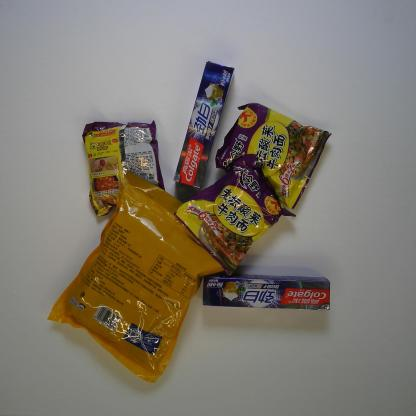Dried Food: (45, 167, 228, 387)
Instant Noodles: (174, 152, 297, 278), (214, 101, 333, 212), (80, 119, 166, 218)
Personal Hygiene: (172, 59, 235, 190), (200, 271, 332, 313)
